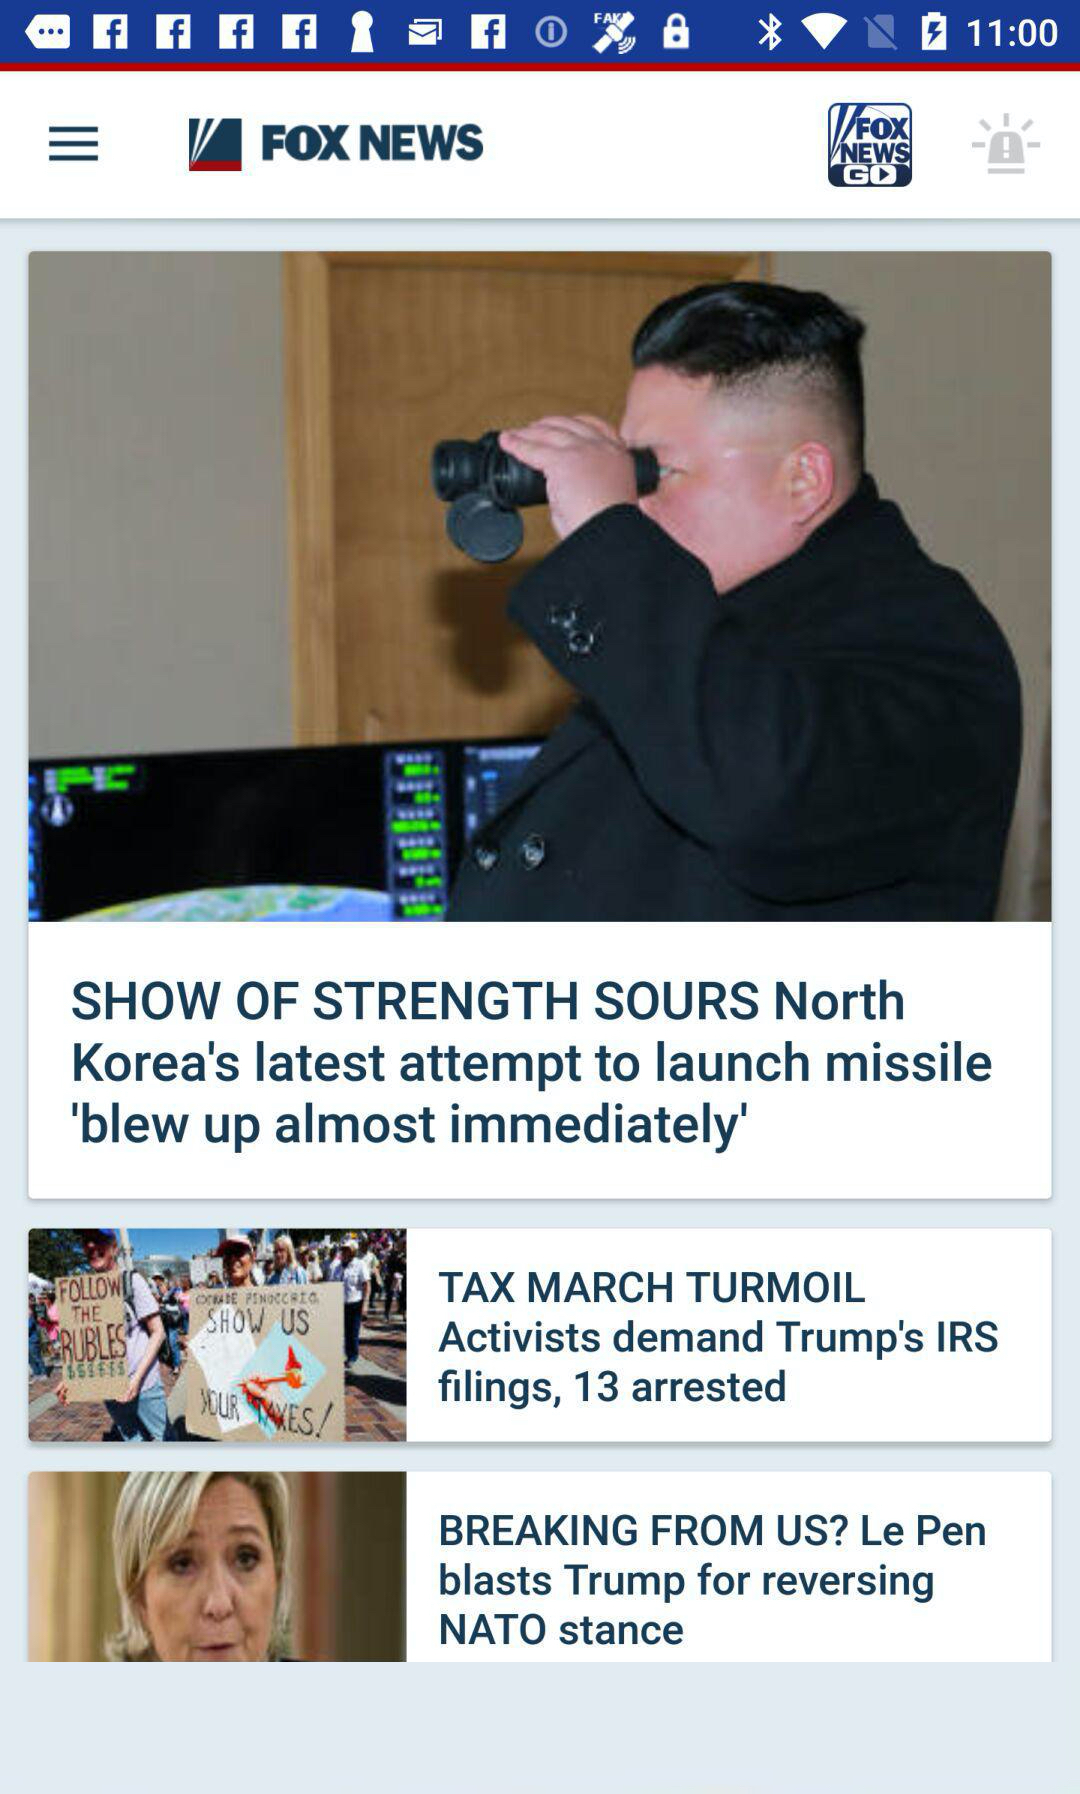Card: (29, 250, 1053, 1199), (28, 1228, 1054, 1443), (27, 1471, 1054, 1665)
Icon: (49, 126, 100, 163)
Image: (29, 251, 1053, 924), (28, 1228, 407, 1443), (27, 1471, 407, 1662), (828, 103, 913, 188), (972, 113, 1042, 176), (190, 118, 243, 173)
Text: (73, 978, 993, 1155), (438, 1271, 999, 1411), (439, 1513, 986, 1645), (263, 123, 486, 161)
Toolbar: (1, 72, 1080, 219)
UpperTaskBar: (1, 1, 1080, 64)
